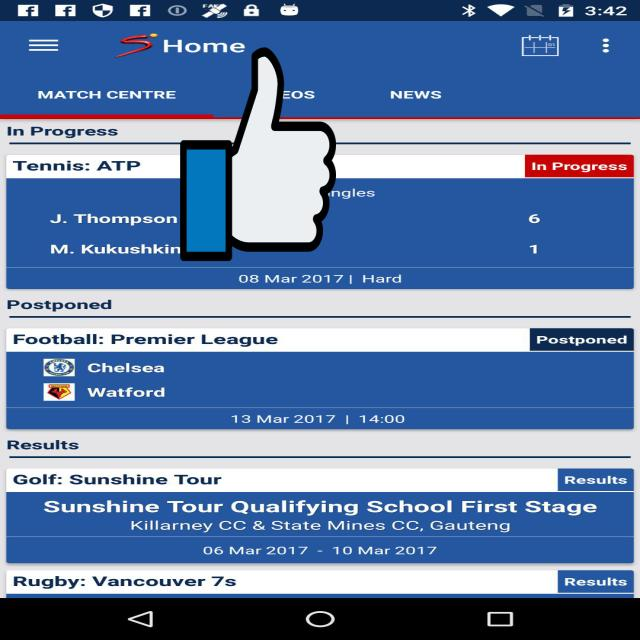privacy zuckering: (180, 42, 336, 266)
